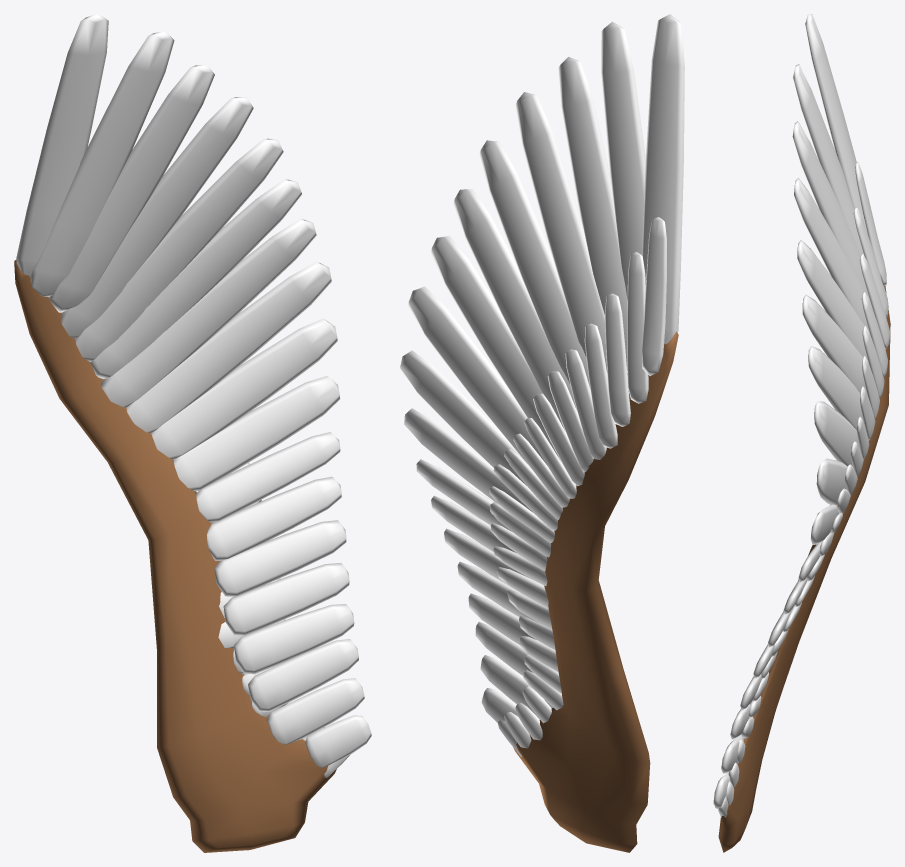
File: Feathered Toothbrush.fbx
3 views of the same model, side by side, from view 1: azimuth 30°, elevation 25°; view 2: azimuth 150°, elevation 25°; view 3: azimuth 270°, elevation 25° (orthographic). The views are drawn at different scales.
Parts seen in each view (by area): view 1: Feathered Toothbrush - gigas18 (MAVG); view 2: Feathered Toothbrush - gigas18 (MAVG); view 3: Feathered Toothbrush - gigas18 (MAVG).
Boxes of the visible parts, <box> form: Feathered Toothbrush - gigas18 (MAVG): <box>14,14,371,852</box>; Feathered Toothbrush - gigas18 (MAVG): <box>400,14,684,852</box>; Feathered Toothbrush - gigas18 (MAVG): <box>713,14,890,852</box>.
Size of the model in its own units: 128 by 349 by 72.29.
